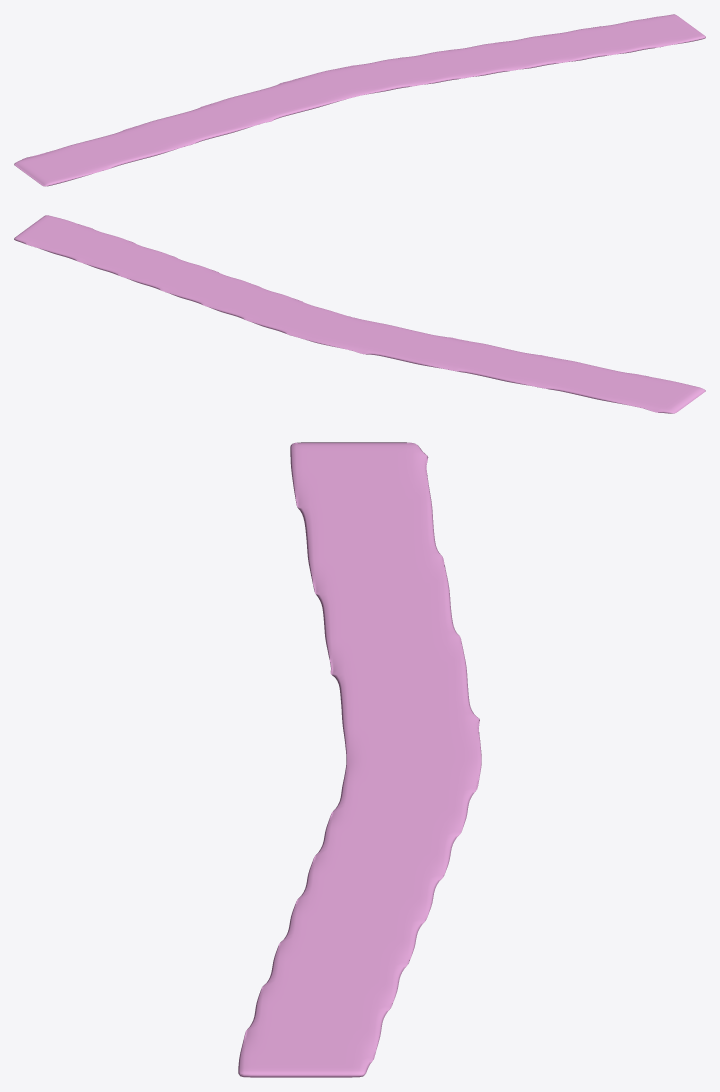
The model's file is road_1.fbx.
3 renders of one model, top to bottom at view 1: azimuth 30°, elevation 25°; view 2: azimuth 150°, elevation 25°; view 3: azimuth 270°, elevation 25°, orthographic. The views are drawn at different scales.
Visible parts, largest first — view 1: Road.001; view 2: Road.001; view 3: Road.001.
Part boxes in pixels (x1,y1,x2,y2): Road.001: (14,14,705,186); Road.001: (14,215,705,413); Road.001: (238,442,481,1077).
Size of the model in its own units: 4358 by 17.27 by 707.
